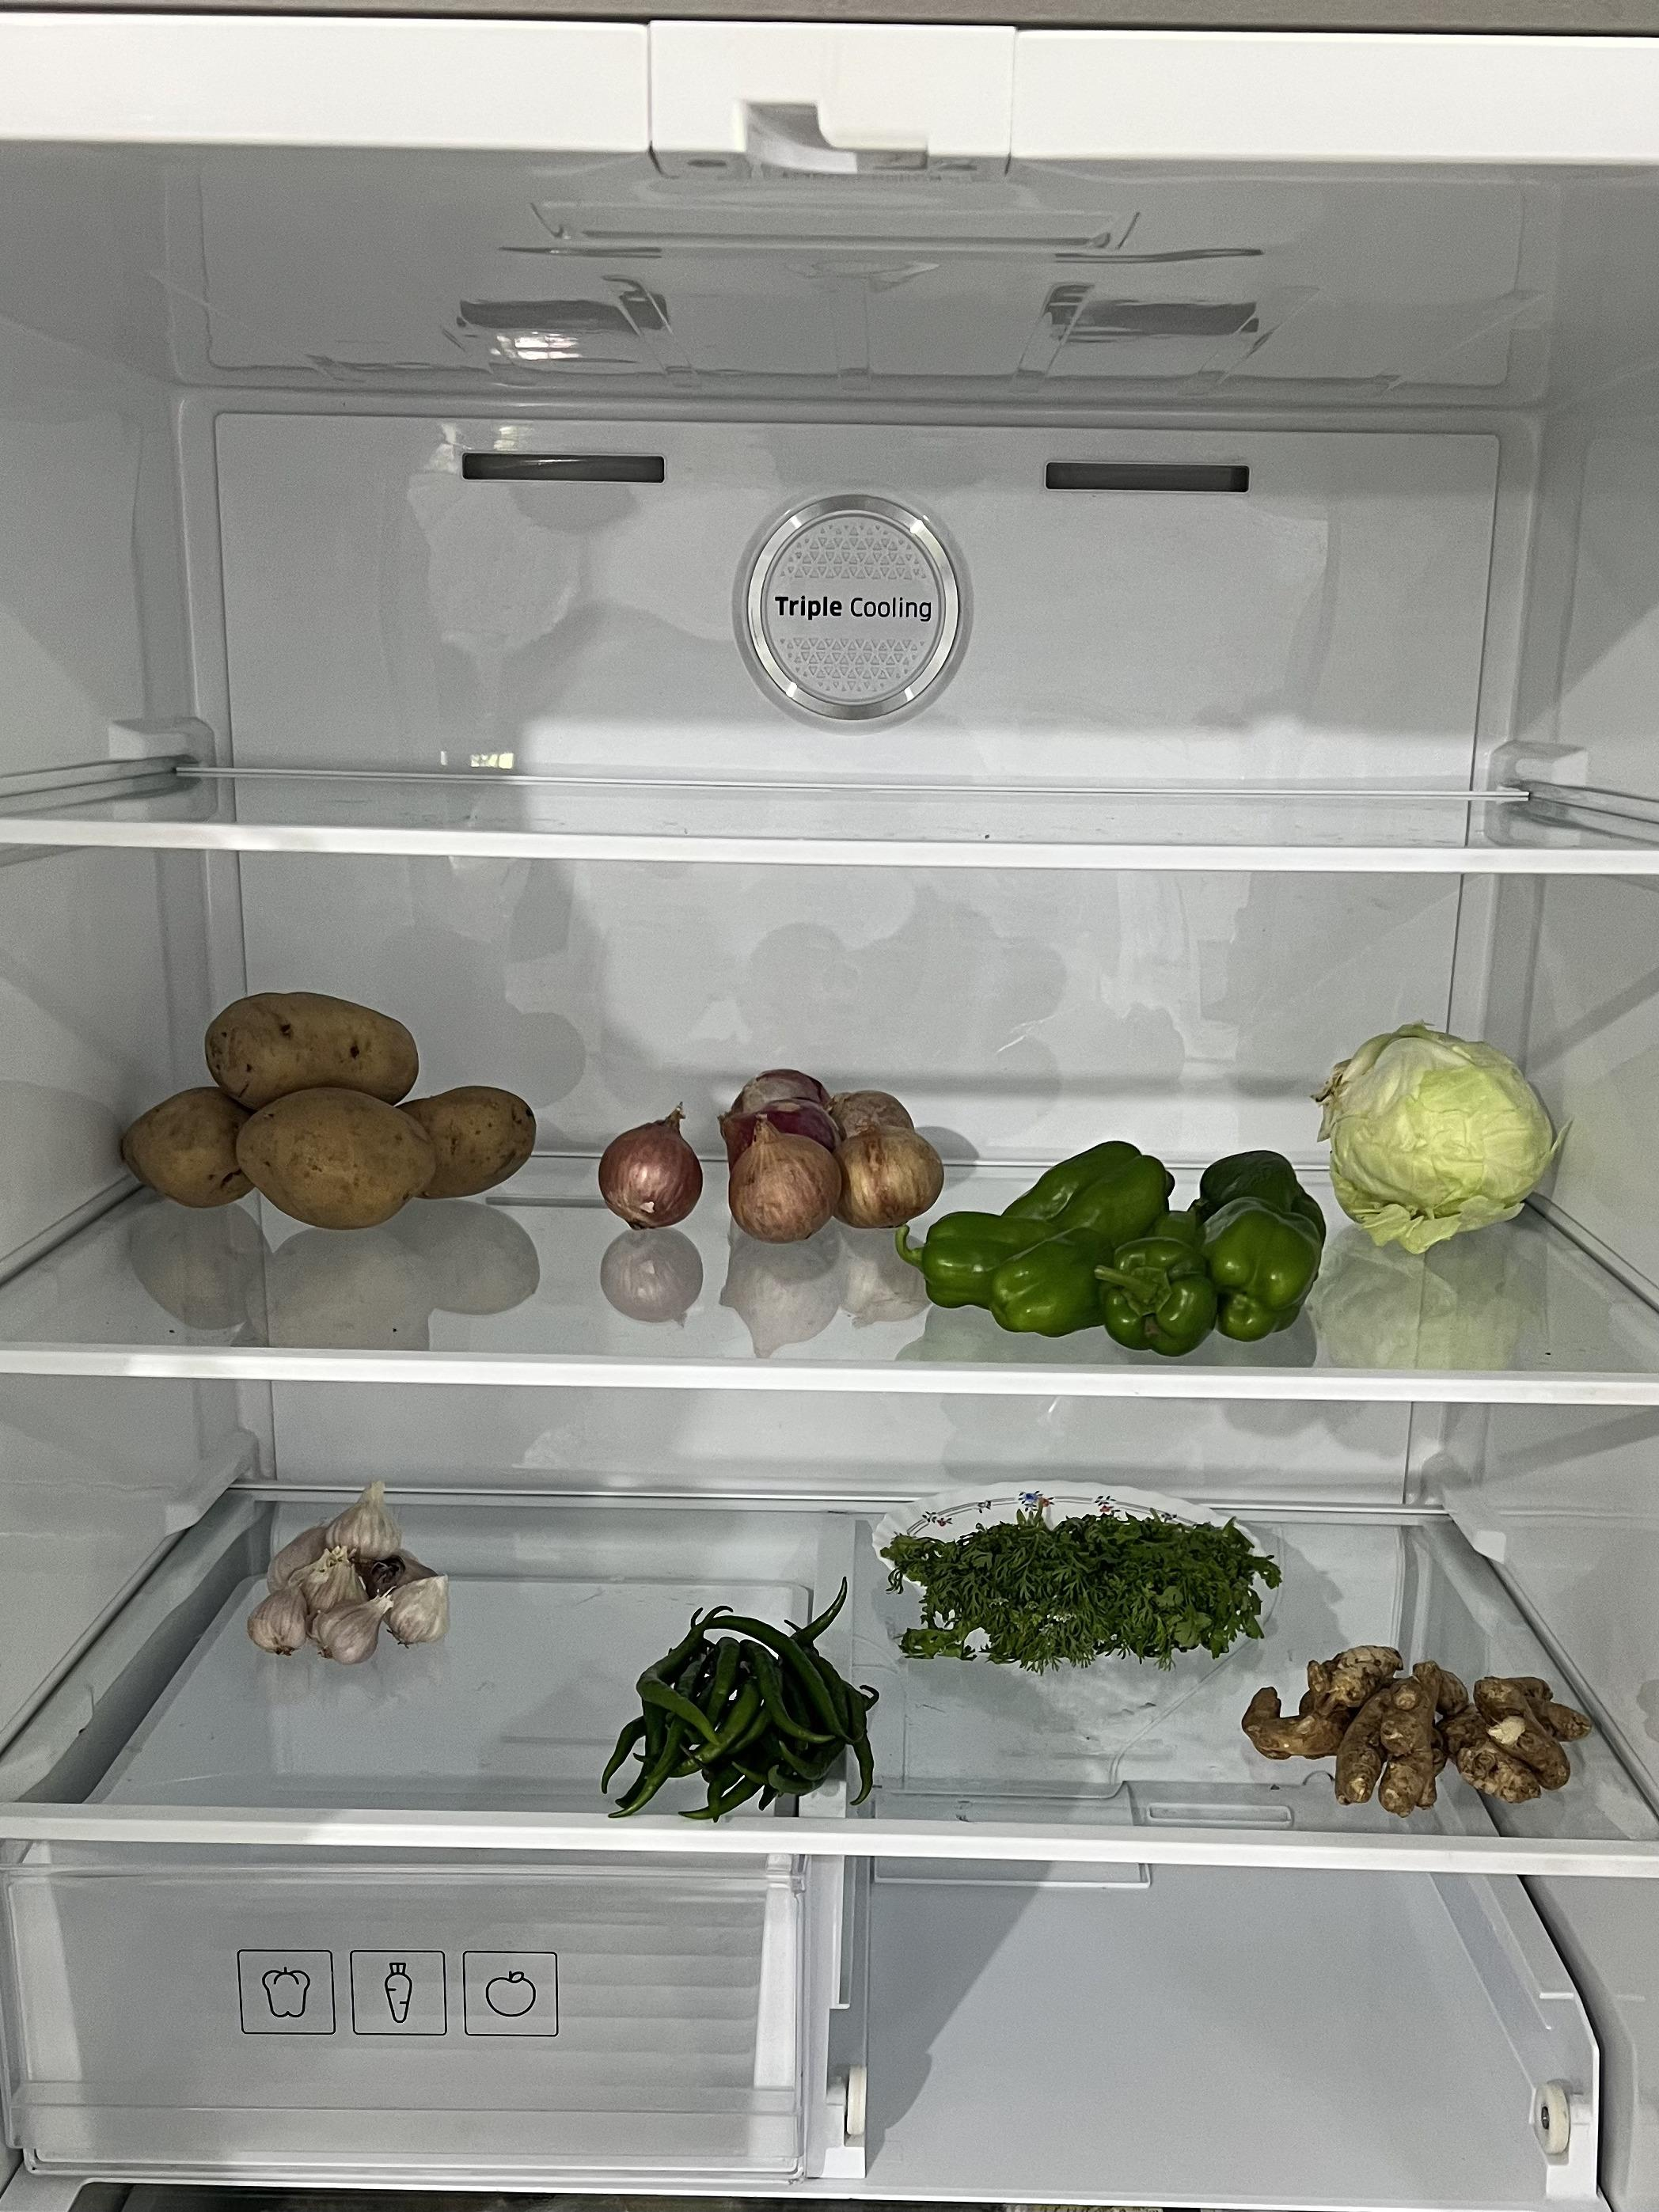cabbage: (1319, 1019, 1558, 1233)
capsicum: (920, 1143, 1337, 1353)
chillies: (612, 1597, 885, 1808)
coriander: (1248, 1635, 1593, 1817), (896, 1507, 1286, 1658)
garlic: (247, 1470, 451, 1665)
onion: (594, 1057, 938, 1242)
potato: (124, 989, 535, 1224)
